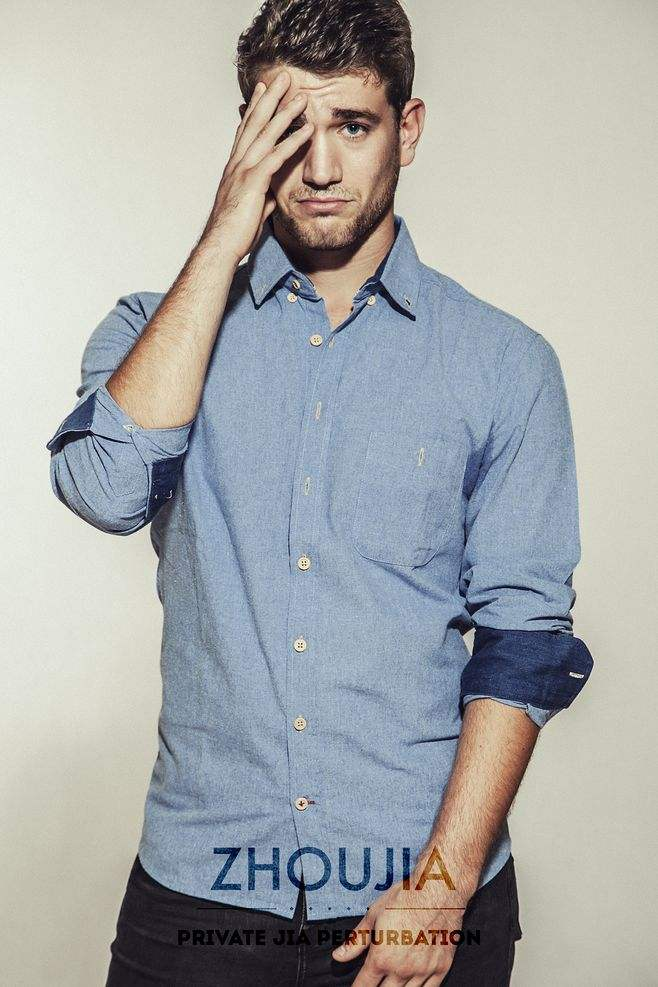person: (133, 1, 551, 943)
